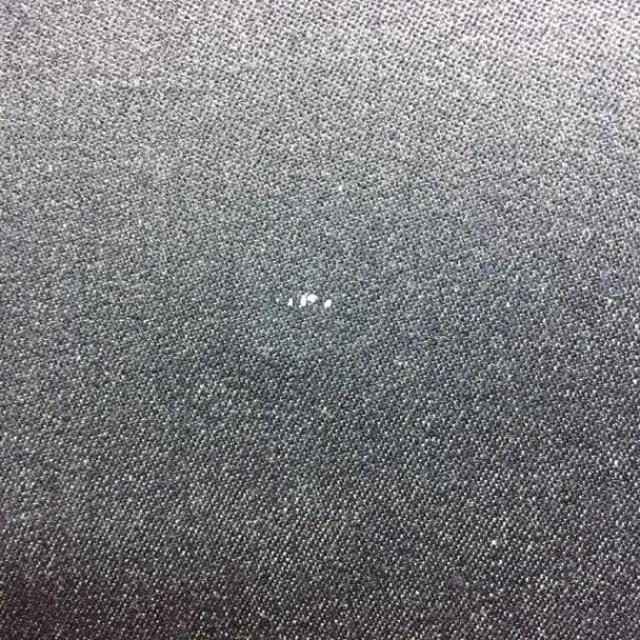Knot: (285, 292, 334, 309)
